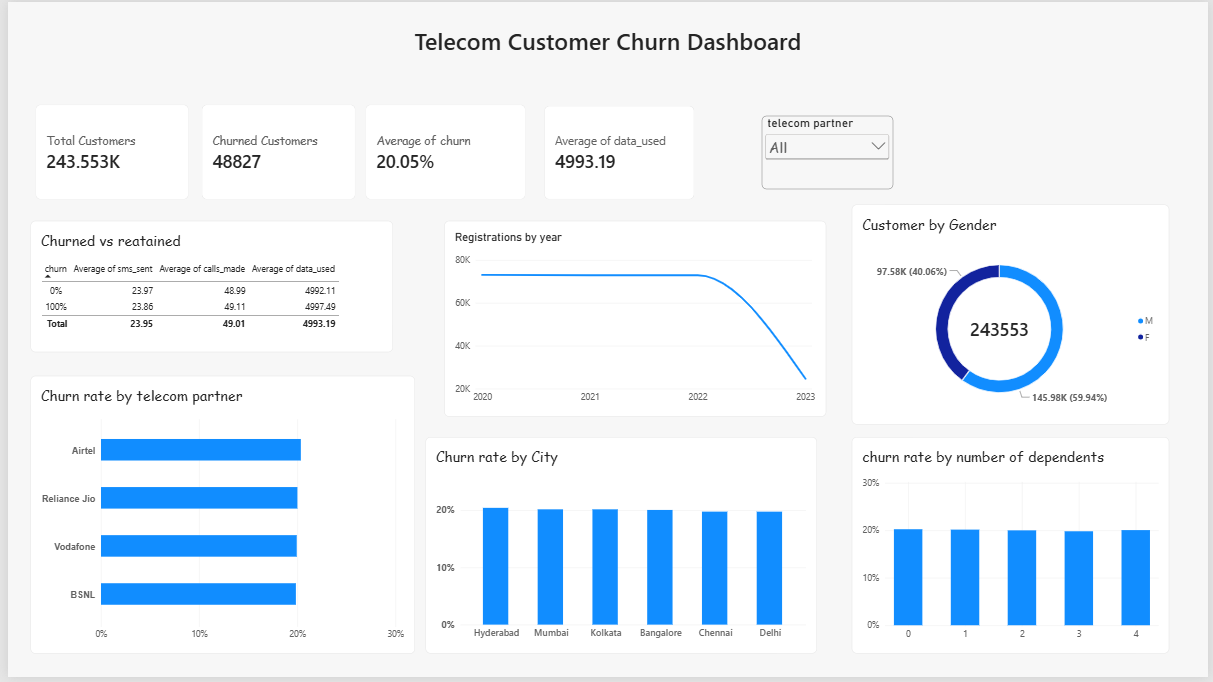

What the dashboard file says about the page in this screenshot:
{"tool":"powerbi","page":{"name":"P","canvas":[1920,1080],"ordinal":0},"visuals":[{"type":"cardVisual","fields":{"Data":["CountNonNull(churnteledata churn_data.customer_id)"]},"box":[44,164,245.9,152.2],"z":0},{"type":"cardVisual","fields":{"Data":["churnteledata churn_data.Churned Customers"]},"box":[310,164,246,152],"z":1000},{"type":"cardVisual","fields":{"Data":["Avg(churnteledata churn_data.churn)"]},"box":[572,164,256,152],"z":2000},{"type":"clusteredBarChart","title":"Churn rate by telecom partner","fields":{"Category":["churnteledata churn_data.telecom_partner"],"Y":["Avg(churnteledata churn_data.churn)"]},"box":[35,597.5,615,445],"z":3000},{"type":"clusteredColumnChart","title":"Churn rate  by City","fields":{"Category":["churnteledata churn_data.city"],"Y":["Avg(churnteledata churn_data.churn)"]},"box":[668,696,626,346],"z":4000},{"type":"donutChart","title":"Customer by Gender","fields":{"Category":["churnteledata churn_data.gender"],"Y":["CountNonNull(churnteledata churn_data.customer_id)"]},"box":[1350,324,508,352],"z":5000},{"type":"slicer","fields":{"Values":["churnteledata churn_data.telecom_partner"]},"box":[1205,182.5,210,117.5],"z":6000},{"type":"tableEx","title":"Churned vs reatained","fields":{"Values":["churnteledata churn_data.churn","Avg(churnteledata churn_data.sms_sent)","Avg(churnteledata churn_data.calls_made)","Avg(churnteledata churn_data.data_used)"]},"box":[35,350,580,210],"z":8000},{"type":"cardVisual","fields":{"Data":["Avg(churnteledata churn_data.data_used)"]},"box":[857.5,165,240,150],"z":9000},{"type":"clusteredColumnChart","title":"churn rate by number of dependents","fields":{"Category":["churnteledata churn_data.num_dependents"],"Y":["Avg(churnteledata churn_data.churn)"]},"box":[1350,696,508,346],"z":10000},{"type":"textbox","box":[44,0,246,152],"z":11000},{"type":"textbox","box":[0,0,1920,122.5],"z":12000},{"type":"lineChart","fields":{"Category":["churnteledata churn_data.Reg Year","churnteledata churn_data.Reg Month"],"Y":["CountNonNull(churnteledata churn_data.customer_id)"]},"box":[698.9,350,611.1,313.3],"z":12001}]}

Visuals, with their boxes in screenshot pixels (x1, y1, x2, y2), scaled from the page's 1920x1080 canvas onto the 1213x682 screenshot:
cardVisual - CountNonNull(churnteledata churn_data.customer_id): Rect(28, 104, 183, 200)
cardVisual - churnteledata churn_data.Churned Customers: Rect(196, 104, 351, 200)
cardVisual - Avg(churnteledata churn_data.churn): Rect(361, 104, 523, 200)
"Churn rate by telecom partner" clusteredBarChart: Rect(22, 377, 411, 658)
"Churn rate  by City" clusteredColumnChart: Rect(422, 440, 818, 658)
"Customer by Gender" donutChart: Rect(853, 205, 1174, 427)
slicer - churnteledata churn_data.telecom_partner: Rect(761, 115, 894, 189)
"Churned vs reatained" tableEx: Rect(22, 221, 389, 354)
cardVisual - Avg(churnteledata churn_data.data_used): Rect(542, 104, 693, 199)
"churn rate by number of dependents" clusteredColumnChart: Rect(853, 440, 1174, 658)
textbox: Rect(28, 0, 183, 96)
textbox: Rect(0, 0, 1212, 77)
lineChart - churnteledata churn_data.Reg Year x churnteledata churn_data.Reg Month: Rect(442, 221, 828, 419)
